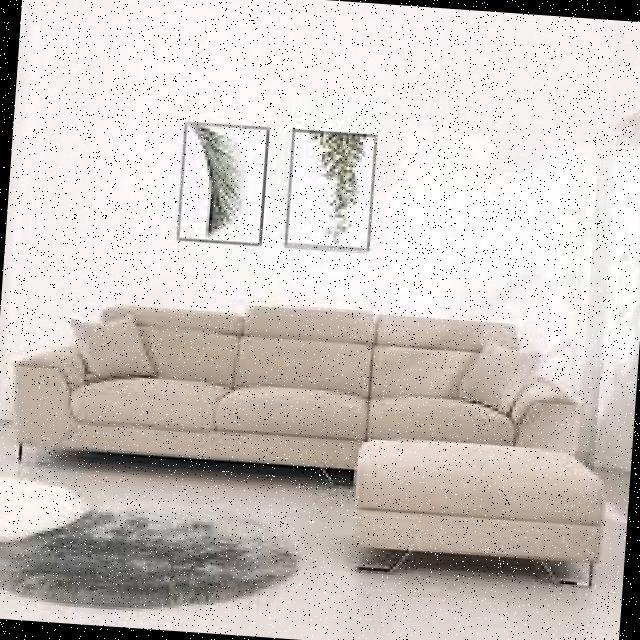Sofa: (0, 268, 638, 608)
